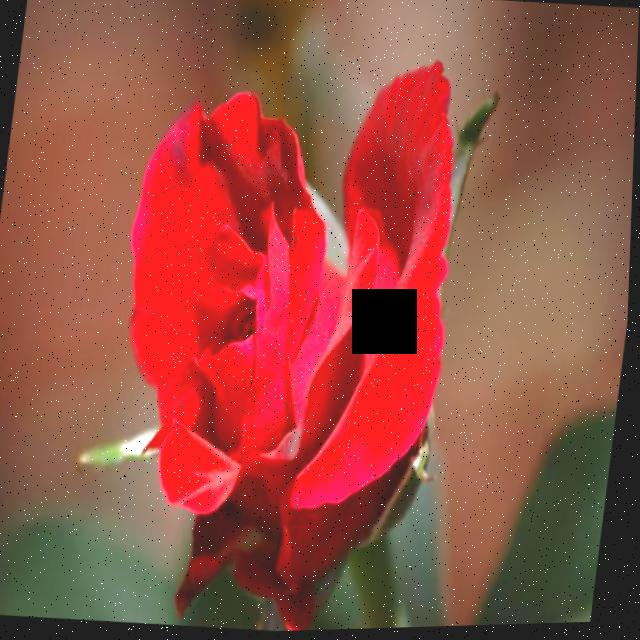rose: (85, 26, 492, 638)
